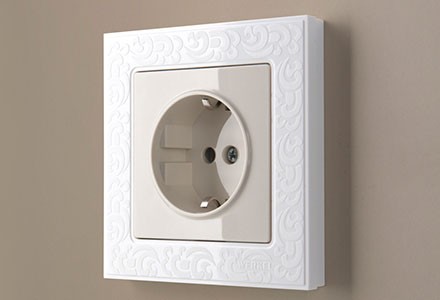raccoon: (147, 85, 250, 220)
